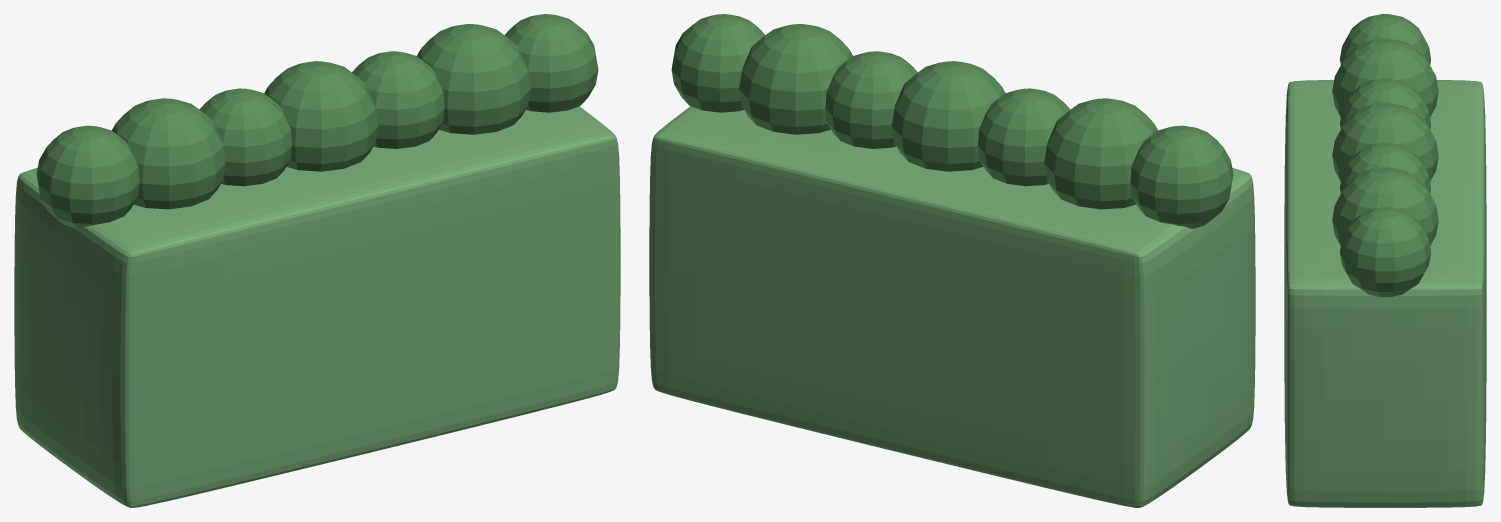
File: hedge.glb
The picture shows the model from 3 angles, left to right: view 1: azimuth 30°, elevation 25°; view 2: azimuth 150°, elevation 25°; view 3: azimuth 270°, elevation 25°; orthographic projection. The views are drawn at different scales.
Parts seen in each view (by area): view 1: hedge; view 2: hedge; view 3: hedge.
Boxes of the visible parts, x1,y1,x2,y2 form: hedge: (14, 14, 620, 507); hedge: (649, 14, 1255, 507); hedge: (1284, 14, 1486, 507).
Size of the model in its own units: 2.15 by 1.31 by 0.7981.
